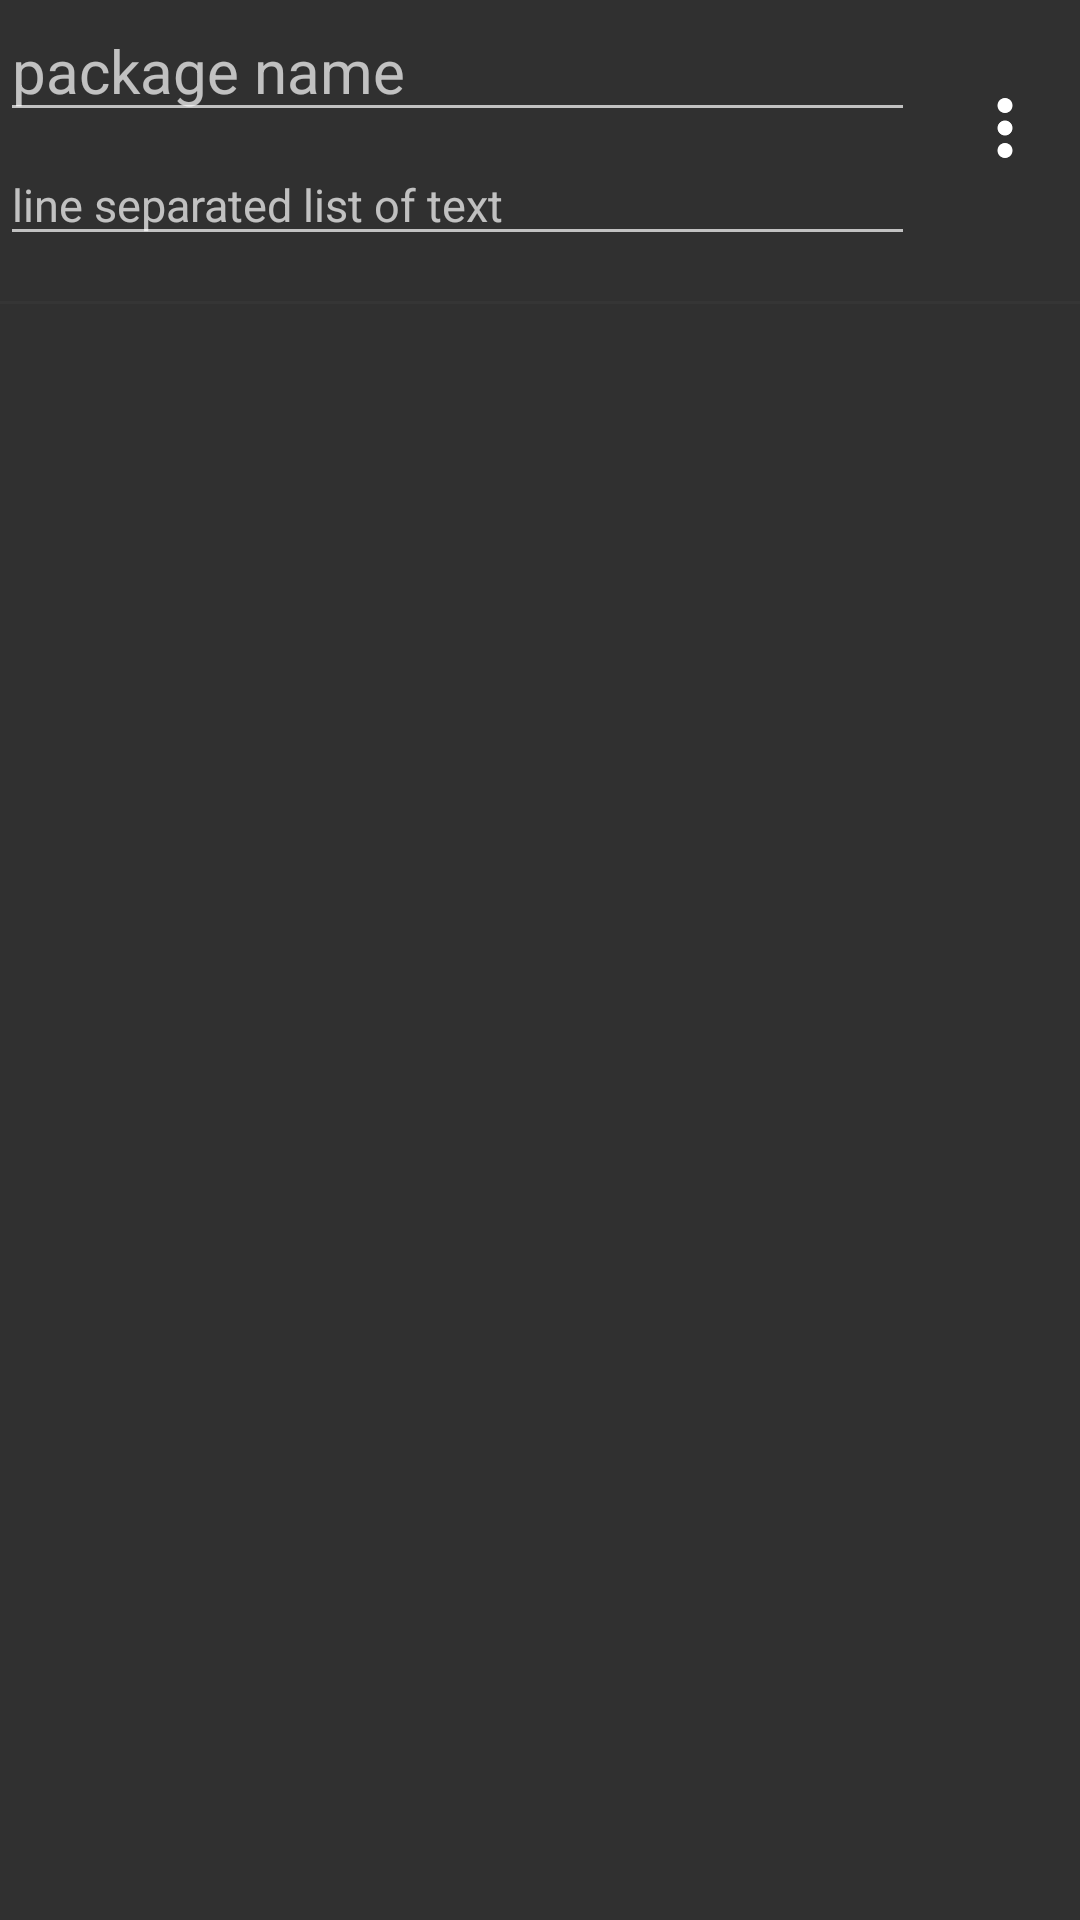

Screen size 1080px×1920px. Icon name, then its center in pixels as (x=x, y=y):
dots: (x=1005, y=128)
